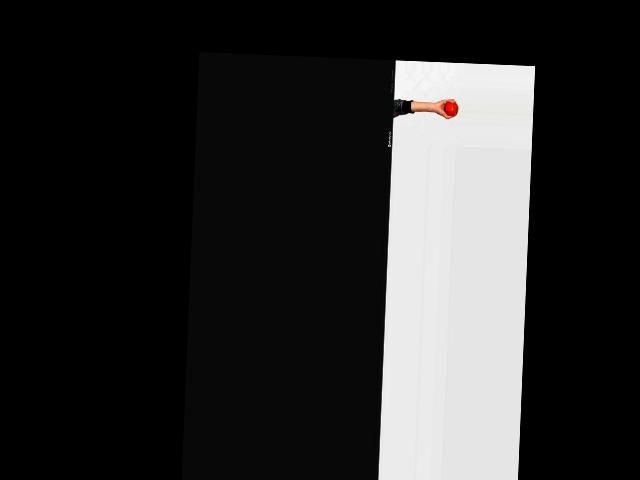tomato: (443, 101, 458, 116)
